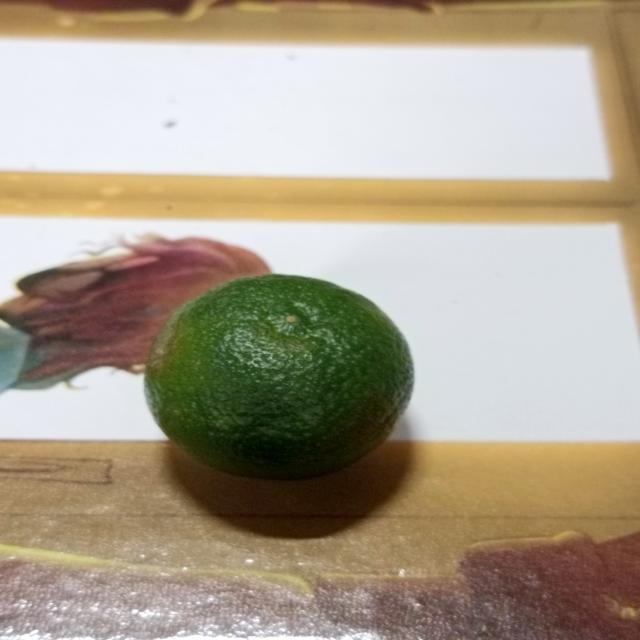heathy: (144, 276, 423, 487)
